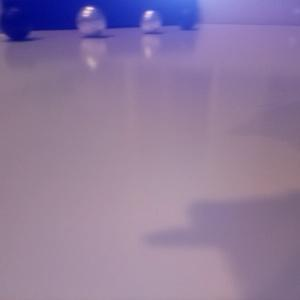alive_ball: (76, 5, 106, 37), (140, 9, 161, 32)
dead_ball: (2, 7, 33, 39), (177, 8, 197, 29)
